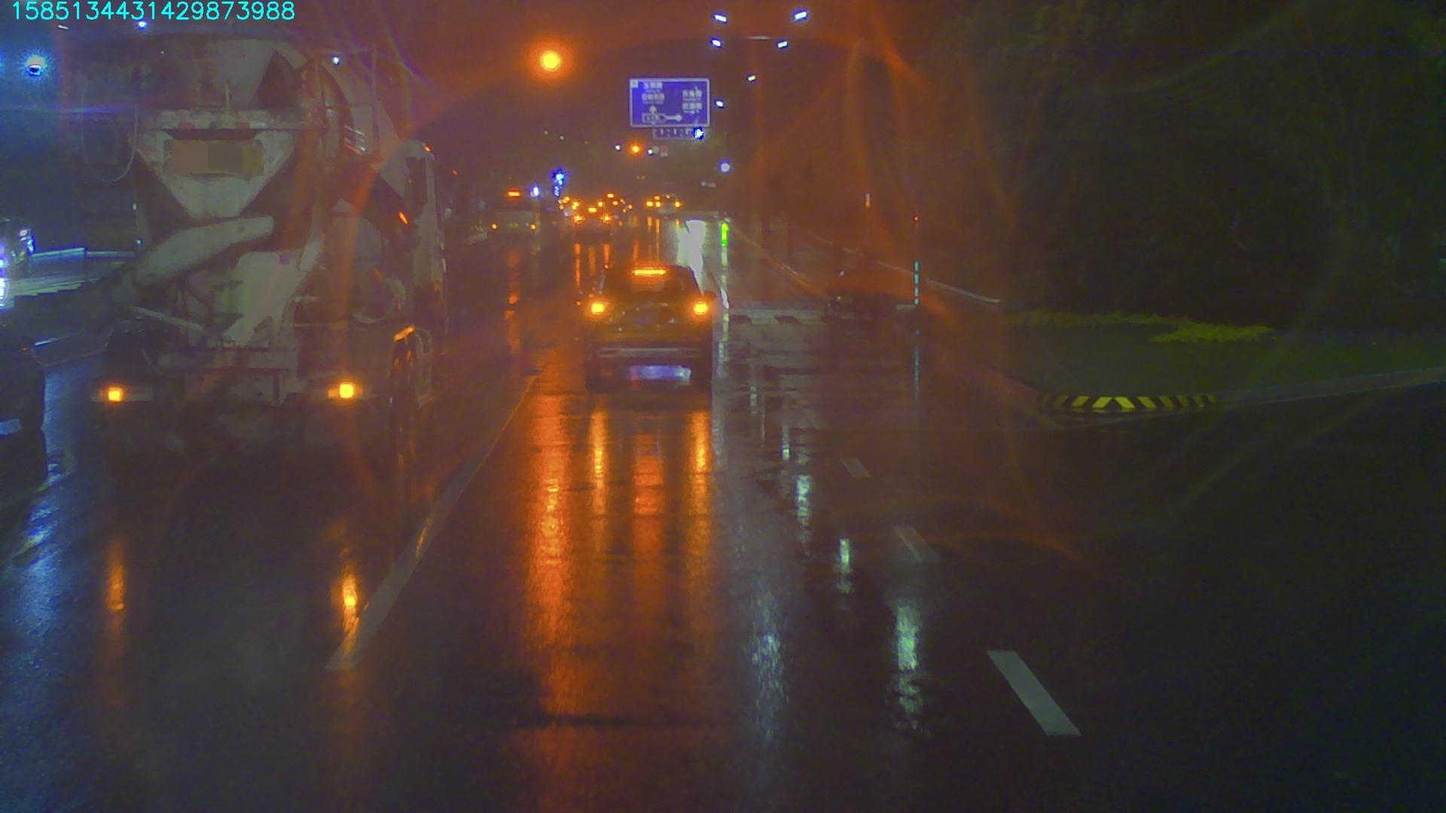red: (533, 38, 569, 84)
